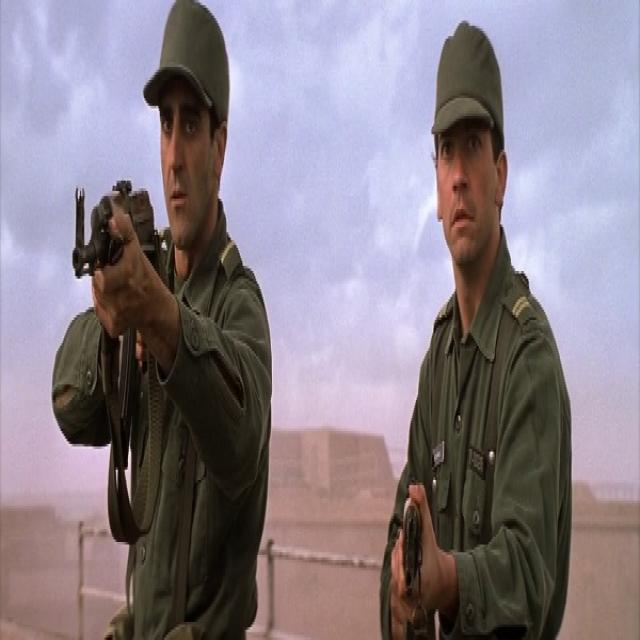rifle: (69, 175, 161, 281)
